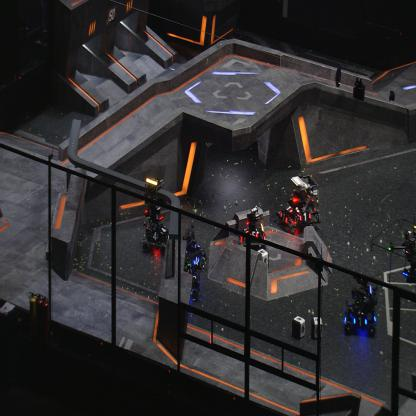car: (277, 174, 320, 234), (343, 270, 378, 338), (140, 205, 172, 256), (176, 225, 207, 277), (171, 254, 201, 300), (238, 206, 267, 253)
